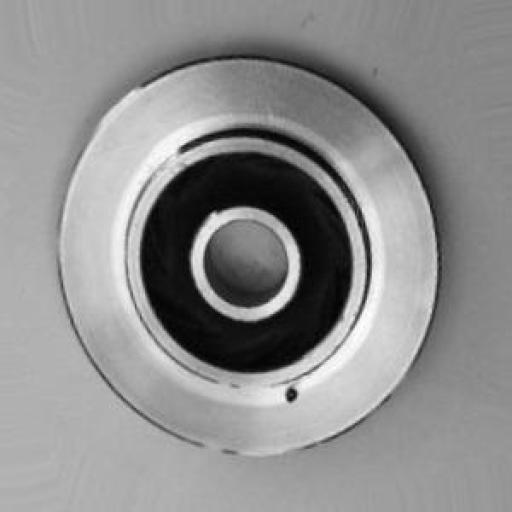defect: (248, 371, 320, 432)
